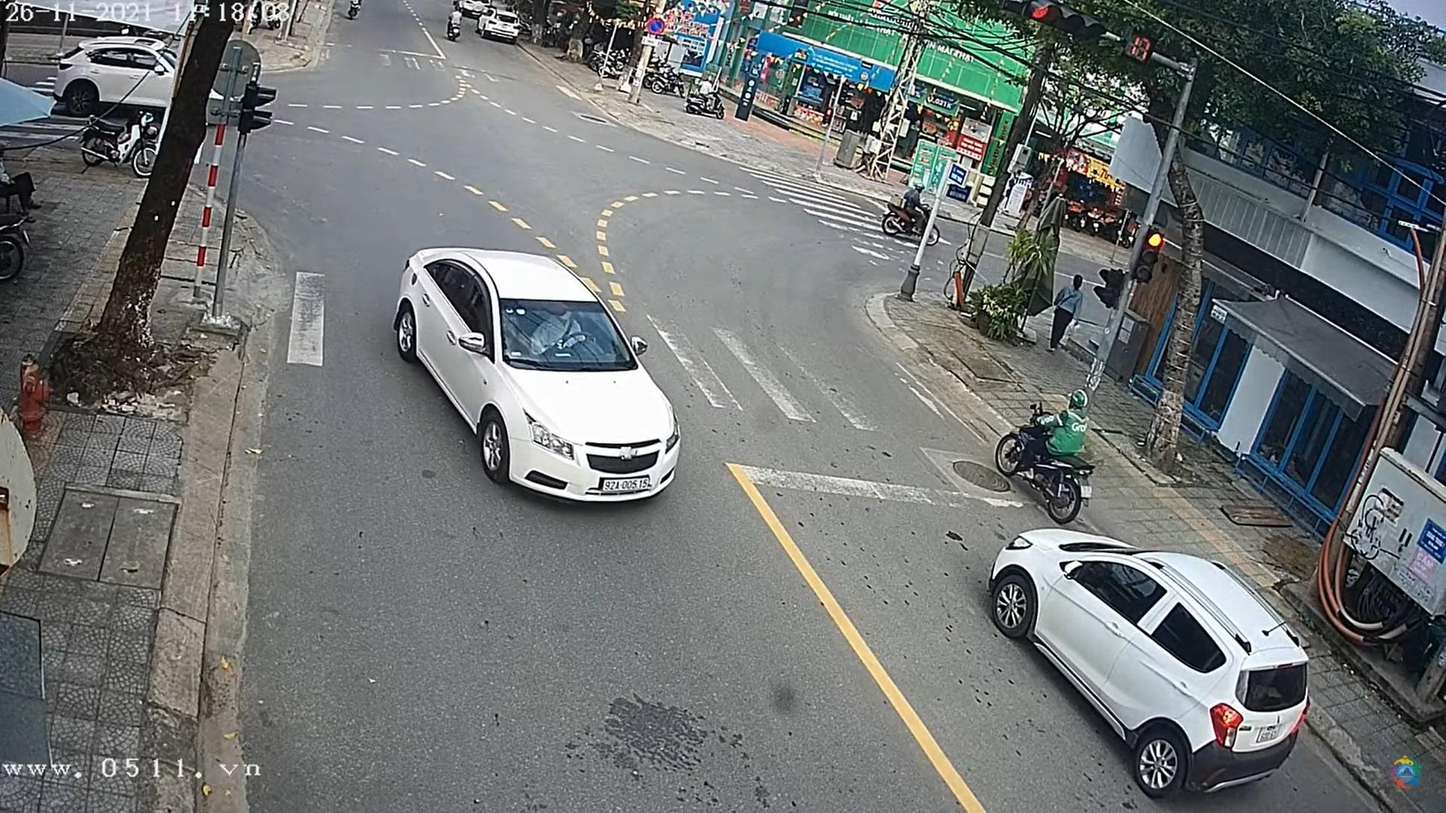car: (980, 530, 1322, 799), (386, 247, 684, 504), (46, 36, 266, 121)
motorbike: (993, 396, 1096, 528), (880, 194, 944, 249)
